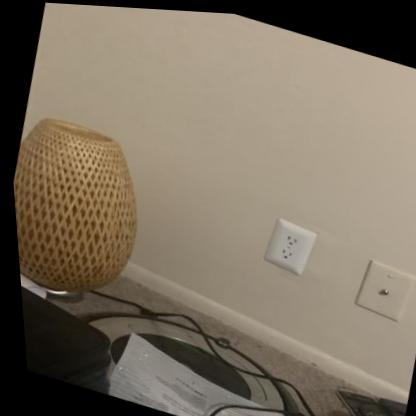OUTLET: (260, 215, 317, 277)
